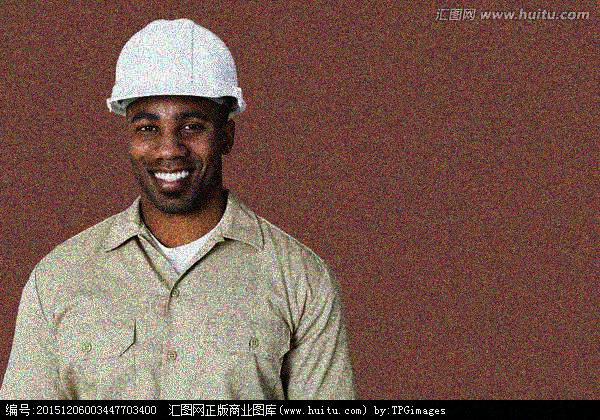helmet: (106, 16, 248, 216)
